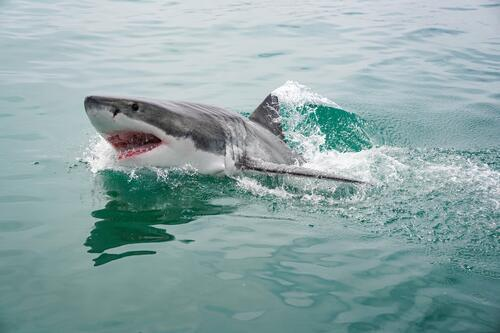shark: (84, 92, 373, 186)
